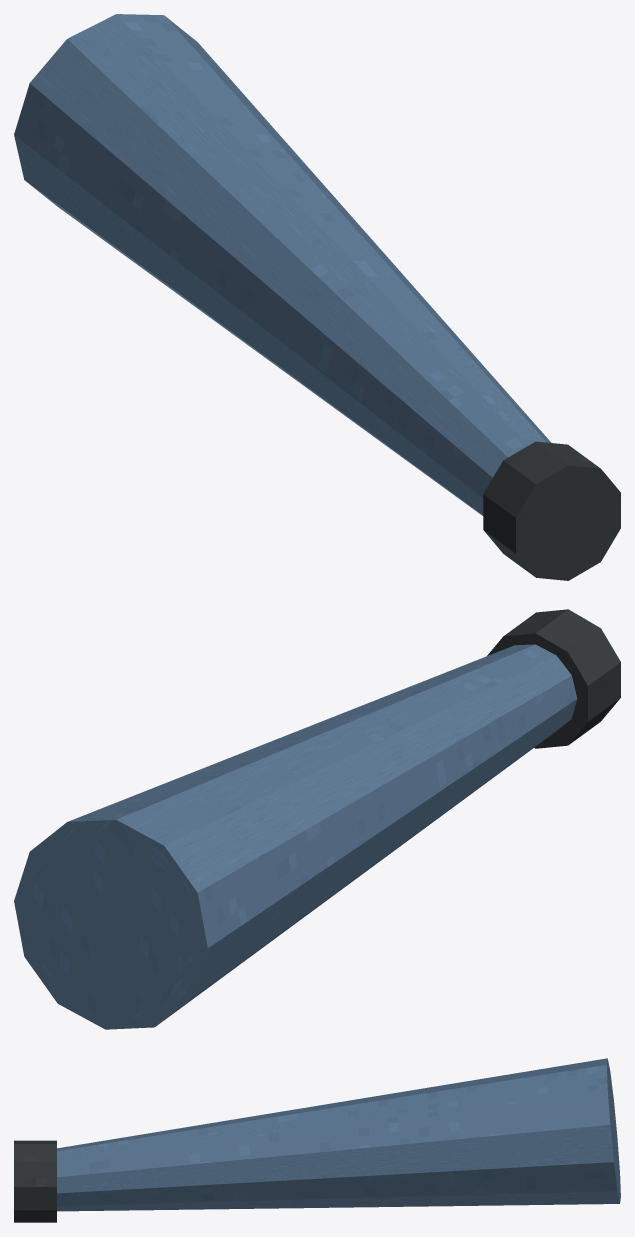
The model's file is bat_nerf.glb.
3 renders of one model, top to bottom at view 1: azimuth 30°, elevation 25°; view 2: azimuth 150°, elevation 25°; view 3: azimuth 270°, elevation 25°, orthographic. The views are drawn at different scales.
Parts seen in each view (by area): view 1: block_tapered handle, block_grip butt; view 2: block_tapered handle, block_grip butt; view 3: block_tapered handle, block_grip butt.
Part boxes in pixels (x1,y1,x2,y2): block_tapered handle: (14, 14, 551, 515); block_grip butt: (483, 441, 620, 580); block_tapered handle: (14, 644, 577, 1029); block_grip butt: (487, 609, 620, 748); block_tapered handle: (57, 1058, 620, 1211); block_grip butt: (14, 1140, 56, 1222).
Size of the model in its own units: 0.1451 by 0.1687 by 0.6.
Materials: 1 (1 with a texture image).
